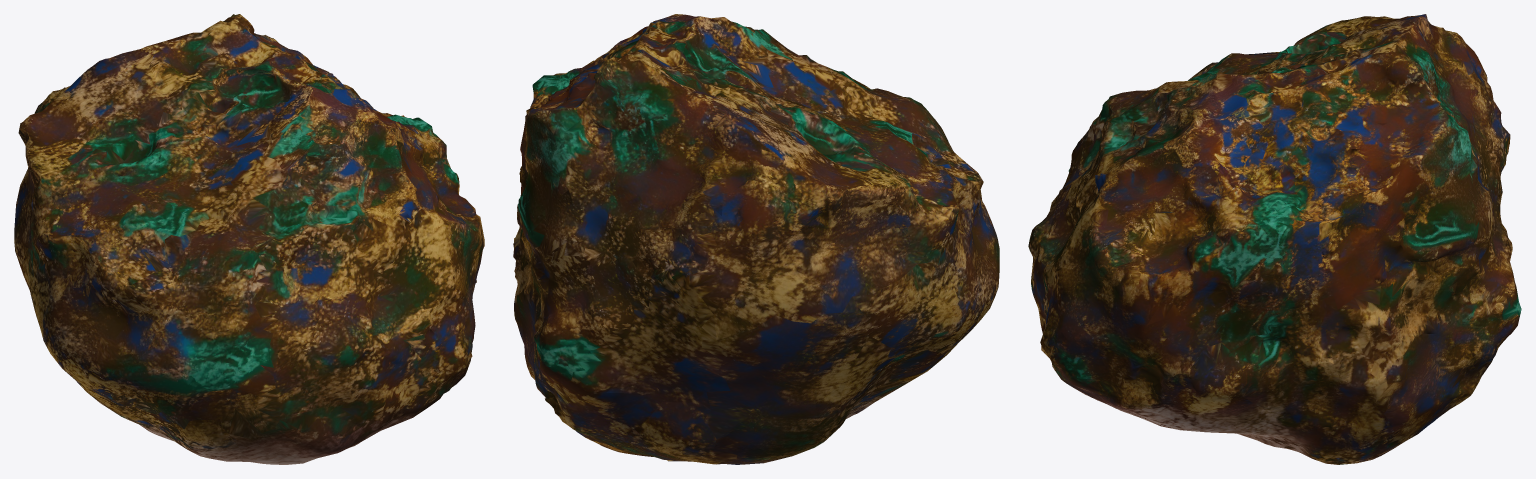
The model's file is ore_copper.glb.
3 renders of one model, left to right at view 1: azimuth 30°, elevation 25°; view 2: azimuth 150°, elevation 25°; view 3: azimuth 270°, elevation 25°, orthographic. The views are drawn at different scales.
Visible parts, largest first — view 1: tripo_node_24034bfa; view 2: tripo_node_24034bfa; view 3: tripo_node_24034bfa.
Part boxes in pixels (bbox=[...]): tripo_node_24034bfa: bbox=[14, 14, 484, 464]; tripo_node_24034bfa: bbox=[513, 14, 999, 464]; tripo_node_24034bfa: bbox=[1028, 14, 1521, 464].
Size of the model in its own units: 2.22 by 2.06 by 2.28.
Materials: 1 (1 with a texture image).
